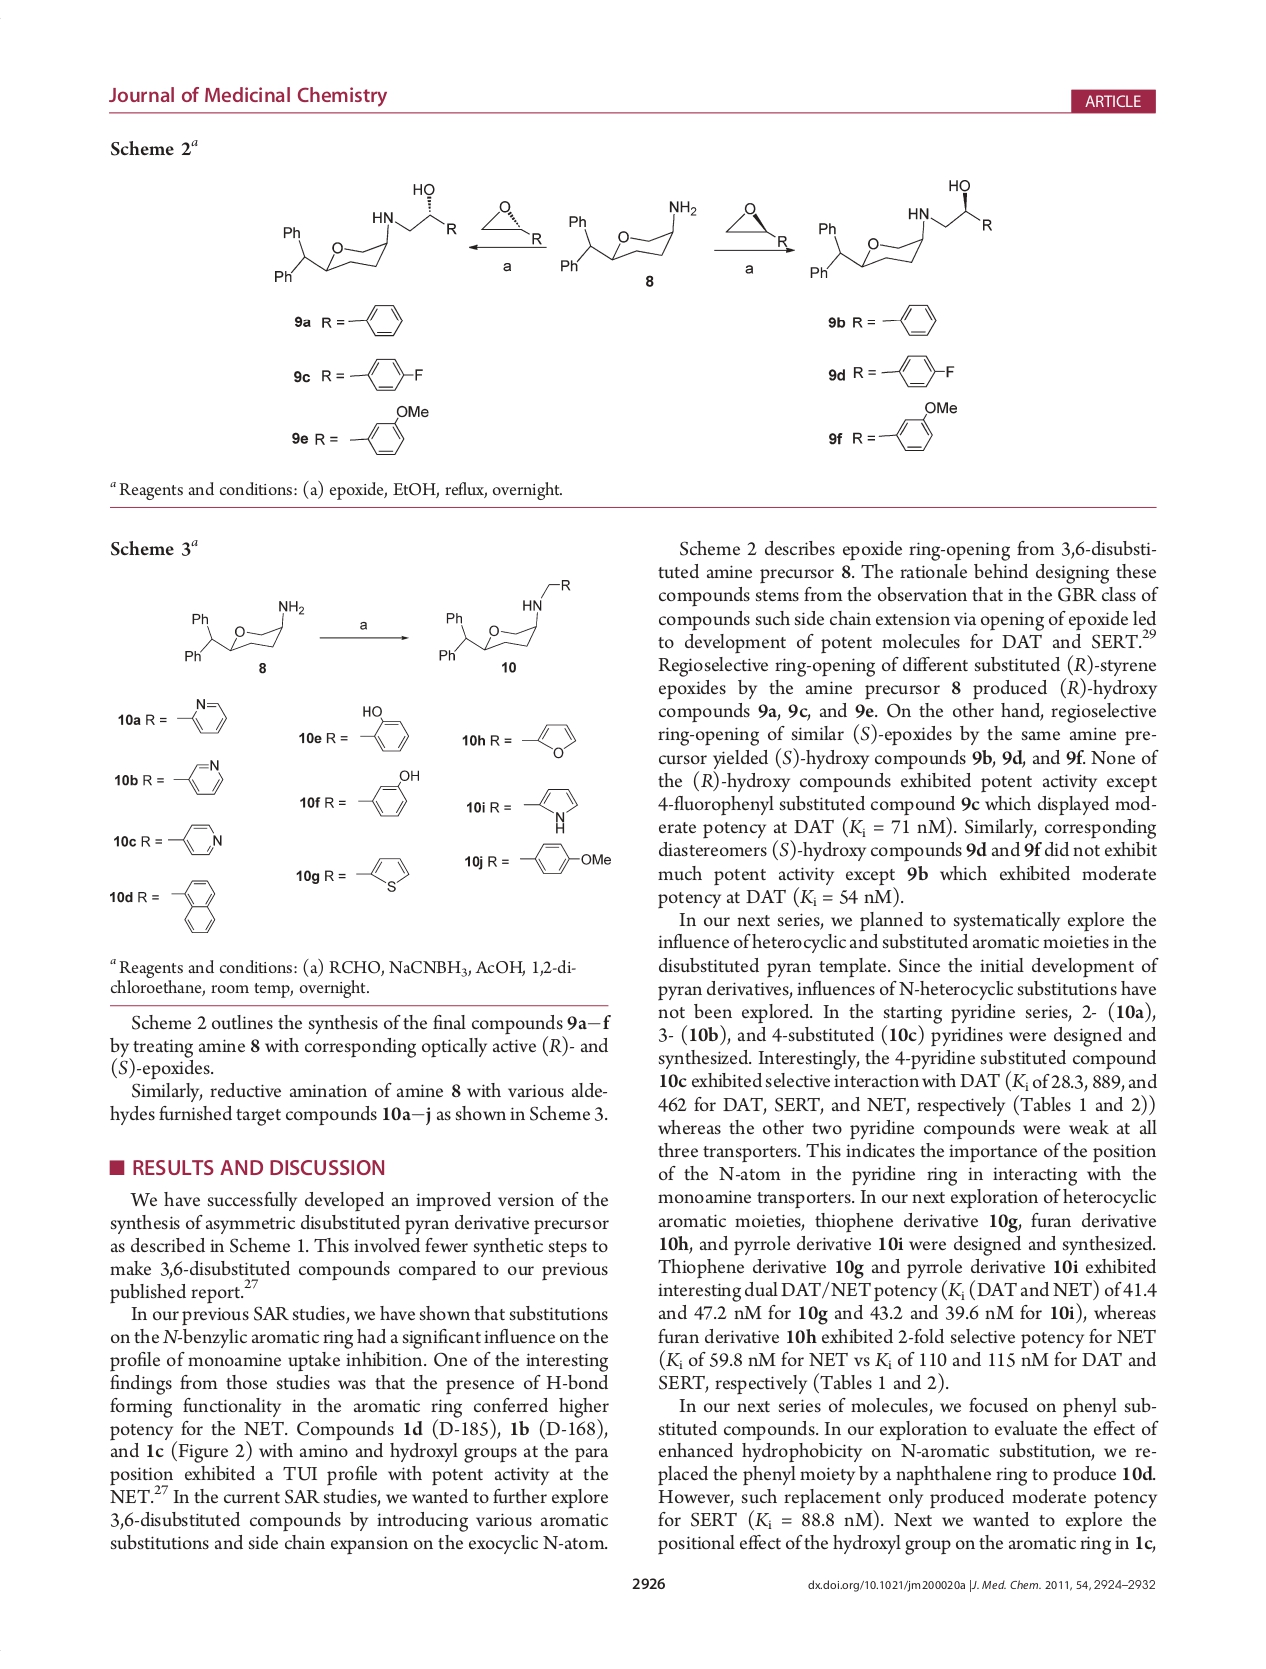exist_molecular: (262, 176, 461, 291), (805, 178, 997, 285), (553, 197, 702, 275), (438, 575, 570, 661), (177, 597, 309, 664), (342, 400, 432, 464), (878, 399, 961, 456), (515, 838, 622, 879), (355, 767, 423, 822), (356, 697, 414, 755), (473, 197, 545, 243), (348, 354, 426, 394), (169, 875, 217, 939), (523, 783, 578, 836), (723, 202, 789, 247), (350, 851, 414, 896), (164, 817, 227, 862), (880, 352, 953, 390), (172, 693, 227, 739), (880, 298, 939, 340), (344, 297, 402, 339), (172, 757, 227, 797), (519, 719, 576, 758)
